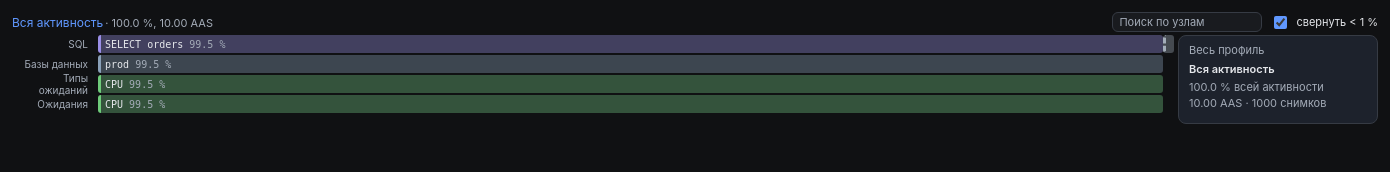
Test: highlights search matches, folds narrow nodes and shows hover details
This screenshot has width=1390, height=172.
Expected: the number of buttons with class "rest" is 1, [1163,35,1174,53]
Click the checkbox labelled "свернуть < 1 %" at (1281, 22), box [1274,16,1287,28]
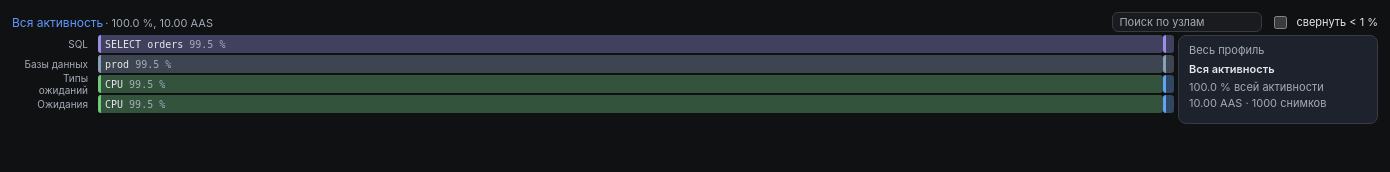
Expected: no buttons with class "rest" are shown
Type "io" into the search field with placeholder "Поиск по узлам" at (1187, 22), box [1112,12,1262,32]
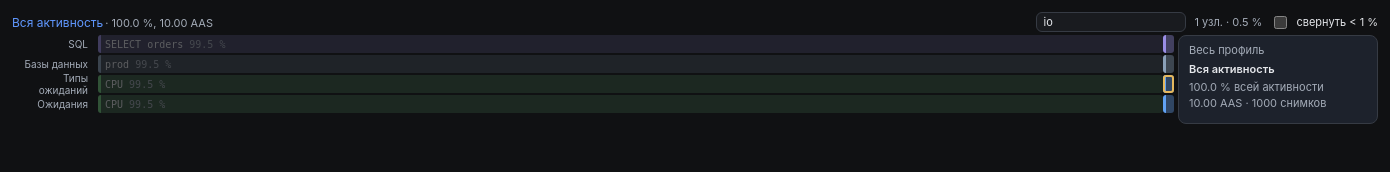
Expected: the number of buttons with class "flame-node" is 1, [1163,75,1174,93]
Expected: the text "1 узл. · 0.5 %" is shown, [1194,15,1262,29]
Hover over the button with aria-label "SELECT orders: 99.5 %" at (144, 44), box [98,35,1163,53]
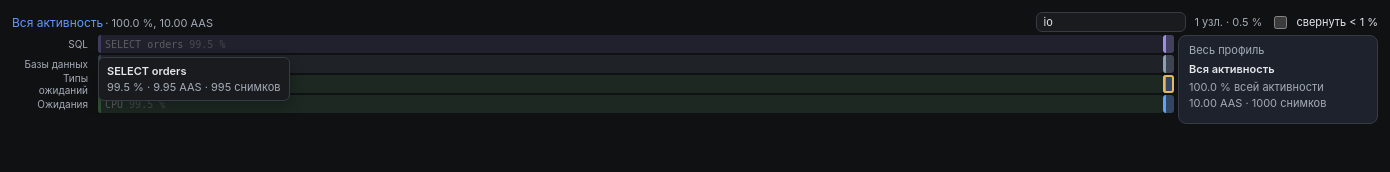
Expected: the tooltip shows "99.5 % · 9.95 AAS · 995 снимков", [98,57,290,101]
Move the pointer off the element with class "flame-plot", box [98,35,1168,115]
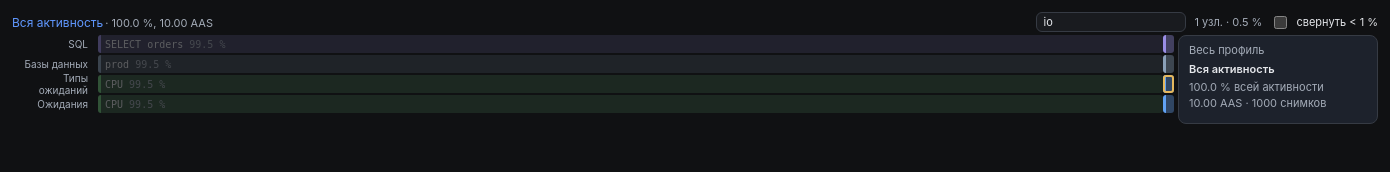
Expected: the tooltip "SELECT orders 99.5 % · 9.95 AAS · 995 снимков" is gone
